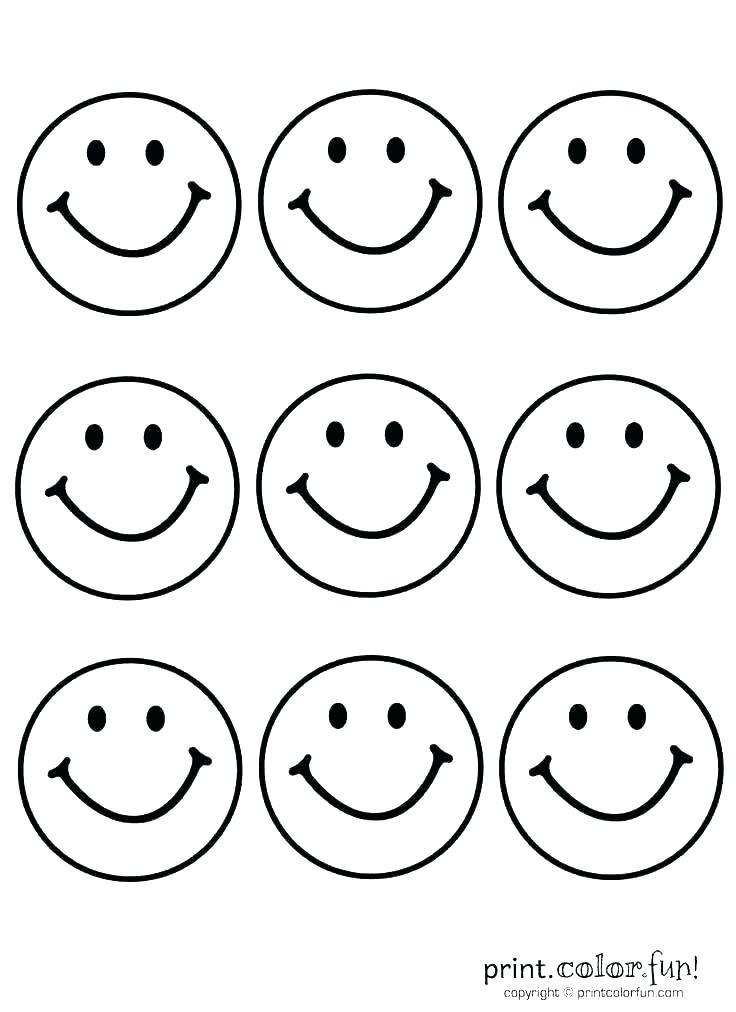feliz: (19, 73, 253, 342), (11, 376, 248, 613), (252, 357, 489, 594), (492, 358, 729, 595), (256, 81, 493, 318), (254, 646, 491, 883), (10, 658, 247, 895), (487, 653, 724, 890), (494, 78, 731, 314)
